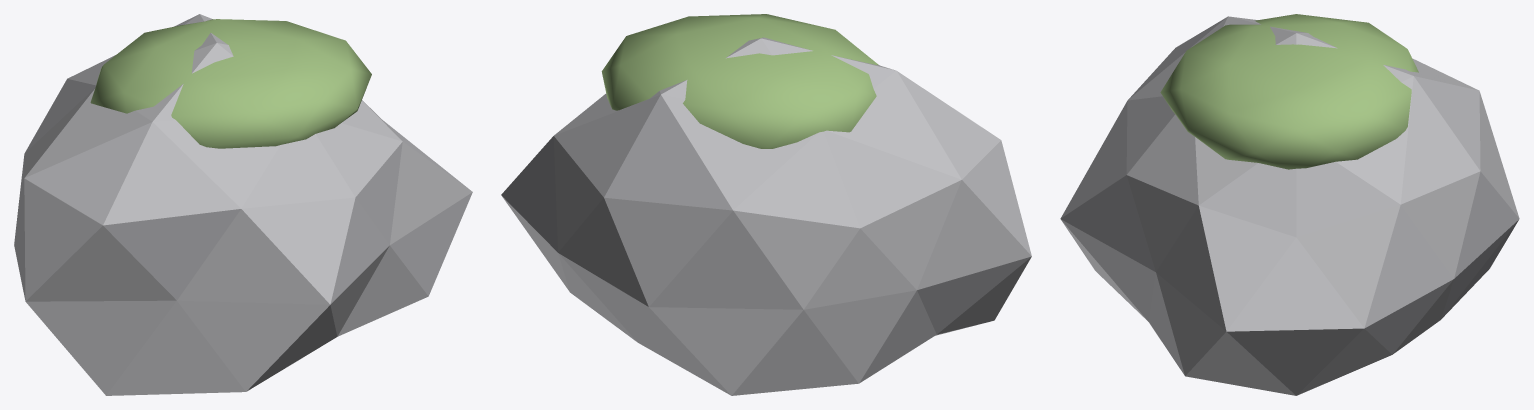
The model's file is plant.boulder.glb.
3 renders of one model, left to right at view 1: azimuth 30°, elevation 25°; view 2: azimuth 150°, elevation 25°; view 3: azimuth 270°, elevation 25°, orthographic. The views are drawn at different scales.
Parts seen in each view (by area): view 1: Stone, Moss; view 2: Stone, Moss; view 3: Stone, Moss.
Boxes of the visible parts, x1,y1,x2,y2 form: Stone: [14, 14, 472, 395]; Moss: [90, 19, 371, 148]; Stone: [501, 37, 1031, 395]; Moss: [601, 14, 878, 148]; Stone: [1060, 16, 1519, 395]; Moss: [1160, 14, 1418, 169].
Bounding box in the file's own units: 1.27 × 0.7352 × 1.09.
